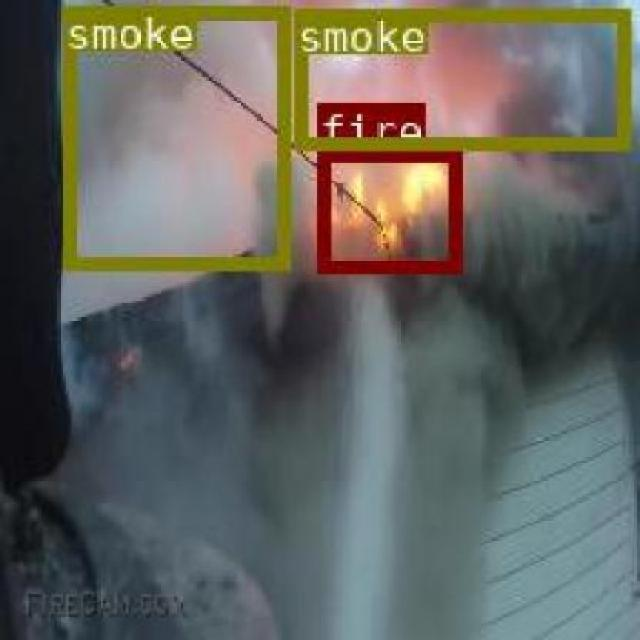Fire: (314, 146, 460, 269)
Smoke: (63, 4, 286, 267), (293, 8, 629, 146)
